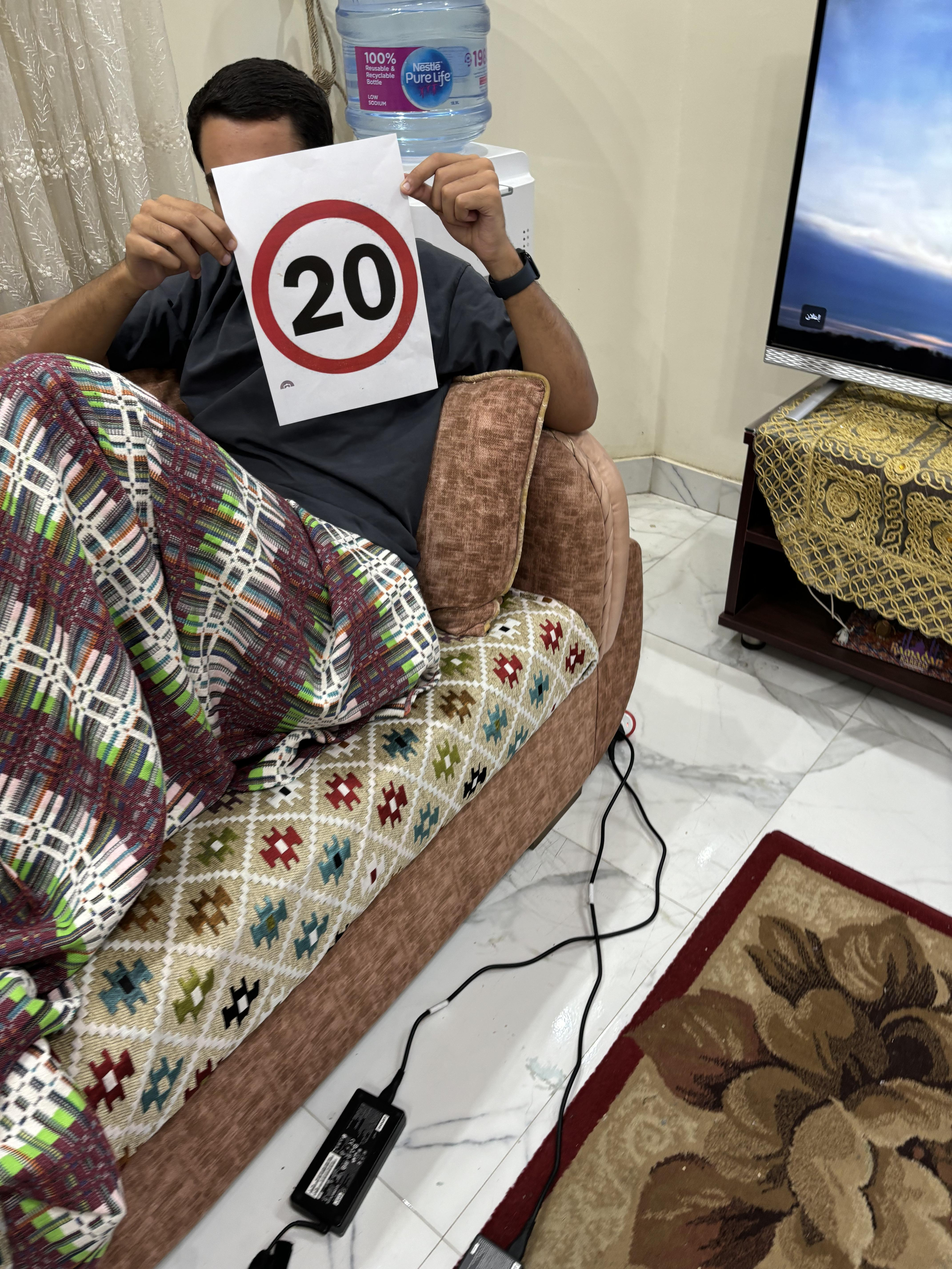20-Speed: (248, 196, 425, 380)
